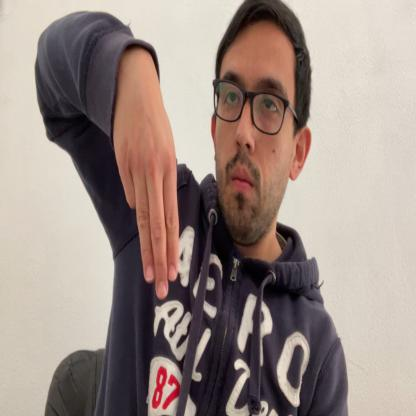M: (112, 48, 179, 299)
